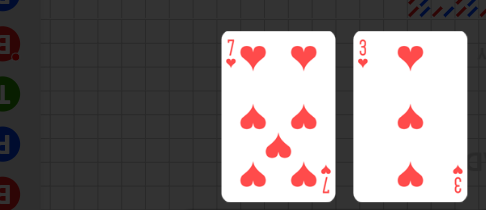3H: (451, 162, 464, 194)
7H: (225, 38, 238, 70)
